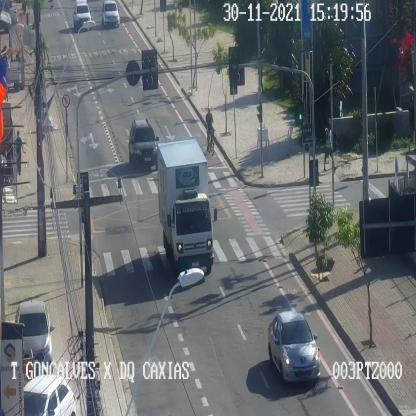bicycle: (206, 107, 214, 155)
car: (268, 312, 320, 381), (16, 301, 52, 372), (23, 374, 76, 416), (128, 120, 157, 169), (73, 0, 93, 31), (101, 1, 119, 26)
person: (324, 124, 336, 171), (14, 130, 23, 174)
truck: (157, 139, 213, 272)
